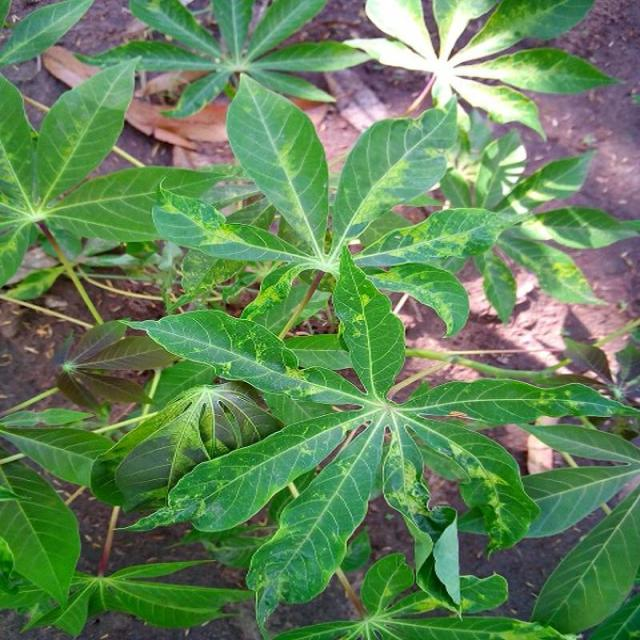cassava leaf: (226, 72, 331, 258)
